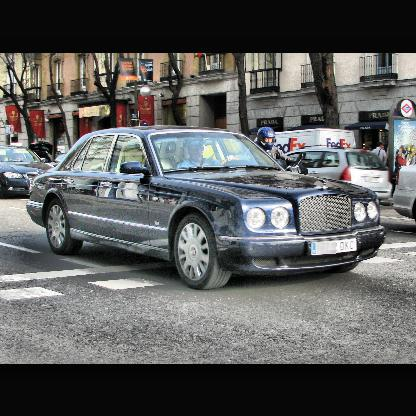Bentley Arnage Sedan 2009: (28, 124, 384, 292)
